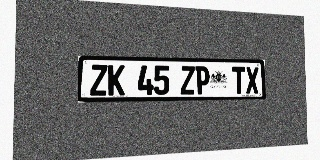4: (138, 65, 154, 95)
5: (154, 65, 169, 95)
K: (108, 65, 125, 95)
P: (195, 66, 210, 94)
T: (232, 67, 246, 94)
X: (246, 67, 259, 94)
Z: (90, 64, 107, 96), (180, 66, 195, 95)
